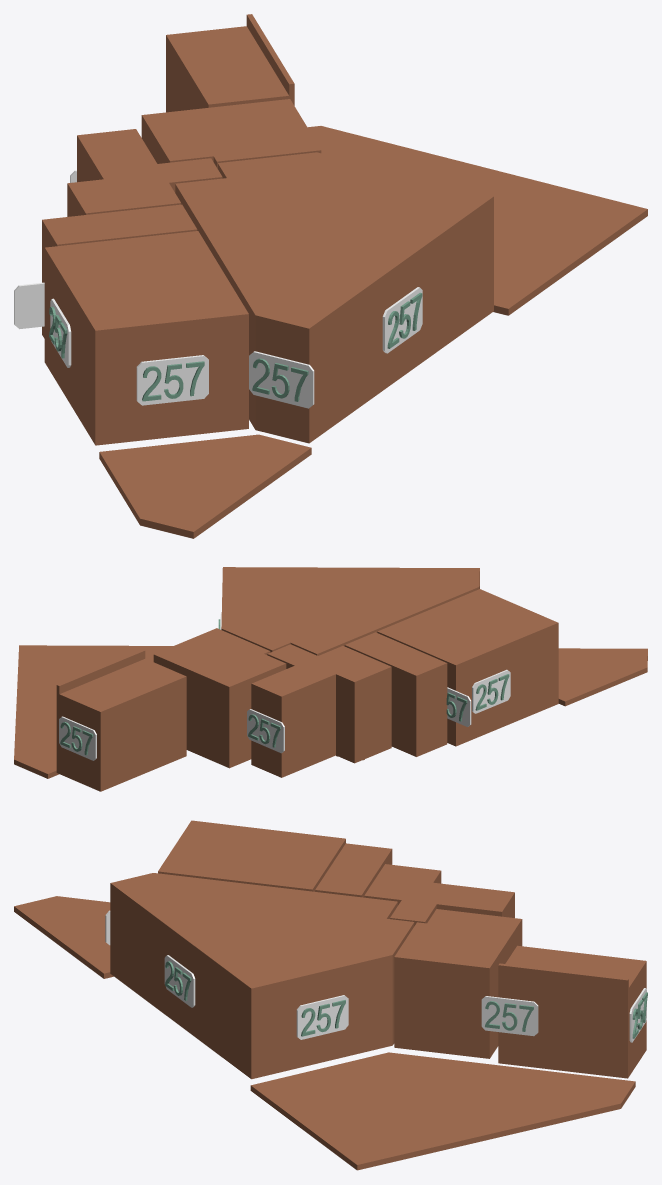
The picture shows the model from 3 angles, top to bottom: view 1: azimuth 30°, elevation 25°; view 2: azimuth 150°, elevation 25°; view 3: azimuth 270°, elevation 25°; orthographic projection. The views are drawn at different scales.
Visible parts, largest first — view 1: g_0, g_1, g_6, g_7, g_5, g_4, g_3, g_2, g_43, g_27, g_11, g_15; view 2: g_0, g_1, g_3, g_5, g_4, g_6, g_2, g_7, g_39, g_35, g_19, g_11; view 3: g_0, g_6, g_5, g_4, g_1, g_3, g_7, g_2, g_31, g_23, g_15.
Part boxes in pixels (x1,y1,x2,y2): g_0: (175, 152, 493, 443); g_1: (44, 231, 248, 445); g_6: (307, 126, 647, 315); g_7: (99, 434, 311, 538); g_5: (166, 14, 294, 112); g_4: (141, 99, 321, 168); g_3: (67, 129, 222, 216); g_2: (42, 204, 197, 338); g_43: (136, 355, 208, 405); g_27: (249, 351, 314, 408); g_11: (14, 282, 44, 329); g_15: (382, 287, 422, 353); g_0: (221, 567, 479, 655); g_1: (377, 589, 558, 746); g_3: (251, 644, 391, 777); g_5: (56, 649, 186, 791); g_4: (153, 628, 286, 768); g_6: (14, 645, 172, 778); g_2: (344, 632, 447, 756); g_7: (558, 648, 647, 706); g_39: (472, 669, 510, 713); g_35: (247, 709, 284, 753); g_19: (59, 716, 96, 760); g_11: (447, 687, 471, 726); g_0: (110, 873, 414, 1079); g_6: (250, 1052, 635, 1170); g_5: (498, 945, 646, 1078); g_4: (394, 909, 522, 1058); g_1: (158, 820, 345, 891); g_3: (364, 864, 514, 925); g_7: (14, 896, 113, 978); g_2: (315, 843, 392, 897); g_31: (481, 996, 538, 1036); g_23: (296, 995, 348, 1039); g_15: (164, 955, 195, 1007).
Bounding box in the file's own units: 15.87 × 2.85 × 15.8.
